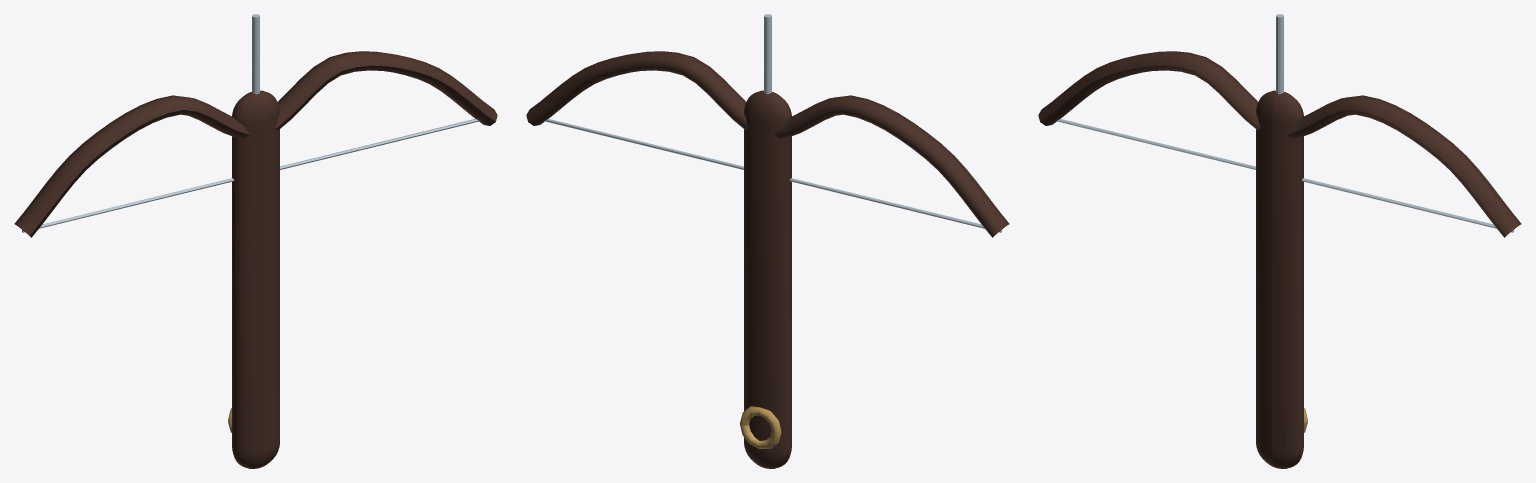
File: crossbow.glb
3 views of the same model, side by side, from view 1: azimuth 30°, elevation 25°; view 2: azimuth 150°, elevation 25°; view 3: azimuth 330°, elevation 25° (orthographic).
Visible parts, largest first — view 1: crossbow_wood, crossbow_metal; view 2: crossbow_wood, crossbow_metal, crossbow_gold; view 3: crossbow_wood, crossbow_metal.
Part boxes in pixels (x1,y1,x2,y2): crossbow_wood: (14, 51, 497, 468); crossbow_metal: (21, 14, 479, 232); crossbow_wood: (526, 51, 1009, 468); crossbow_metal: (544, 14, 1002, 232); crossbow_gold: (740, 406, 781, 448); crossbow_wood: (1038, 51, 1521, 468); crossbow_metal: (1056, 14, 1514, 232).
Bounding box in the file's own units: 0.9455 × 0.856 × 0.0604.
